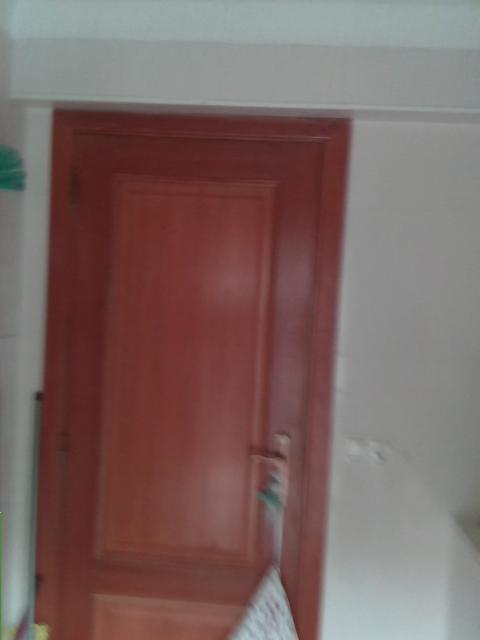closed_door: (30, 103, 351, 639)
